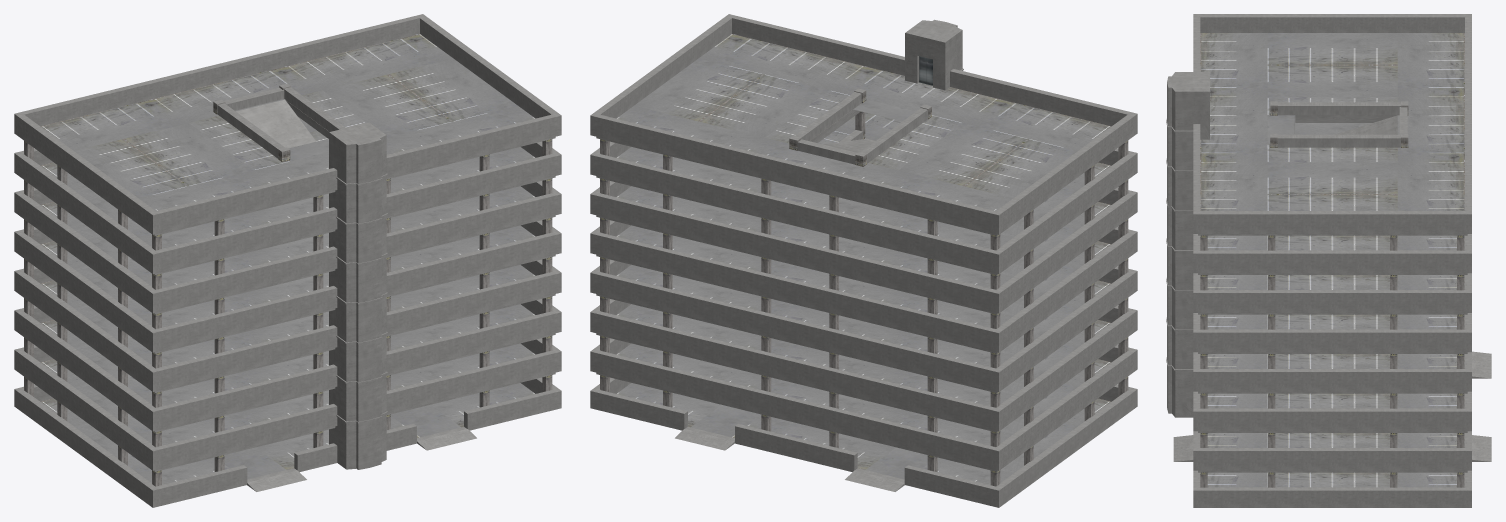
Rendered from parking_garage.dae.
The picture shows the model from 3 angles, left to right: view 1: azimuth 30°, elevation 25°; view 2: azimuth 150°, elevation 25°; view 3: azimuth 270°, elevation 25°; orthographic projection.
Visible parts, largest first — view 1: ParkingGarage; view 2: ParkingGarage; view 3: ParkingGarage.
Part boxes in pixels (bbox=[...]): ParkingGarage: bbox=[14, 14, 561, 507]; ParkingGarage: bbox=[590, 14, 1137, 507]; ParkingGarage: bbox=[1166, 14, 1491, 507].
Bounding box in the file's own units: 2381 × 1635 × 1807.
